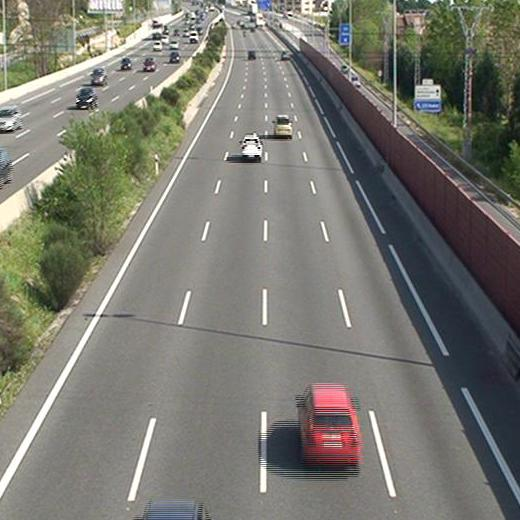car: (297, 385, 359, 466), (240, 135, 261, 158), (274, 116, 292, 137), (247, 50, 255, 59), (280, 50, 288, 58)
